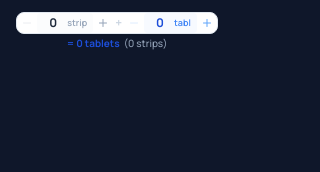
Test: SmartQtyInput strict quantity validation › requires whole packs on pack products
Type "2.5" into the field titled "enter strip count".
click(53, 23); type("2.5")  # box [39,13,67,33]
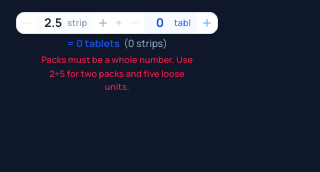
Expected: the message shows "whole number", [41,53,193,93]
